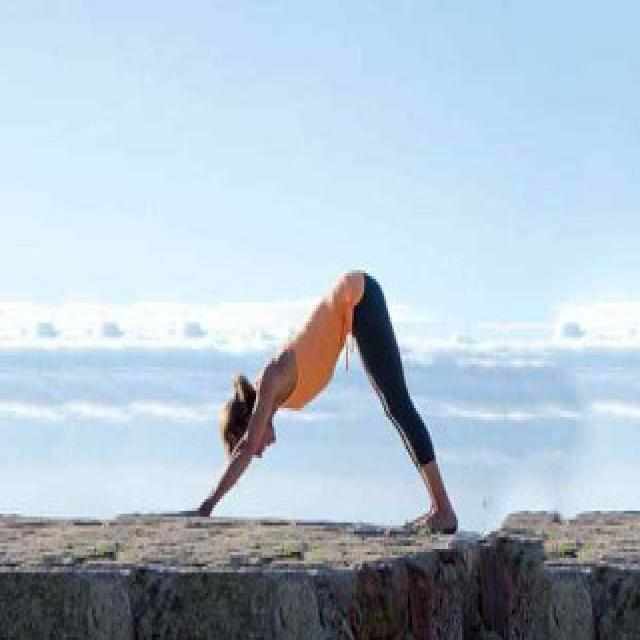yoga-pose downward: (180, 268, 460, 538)
